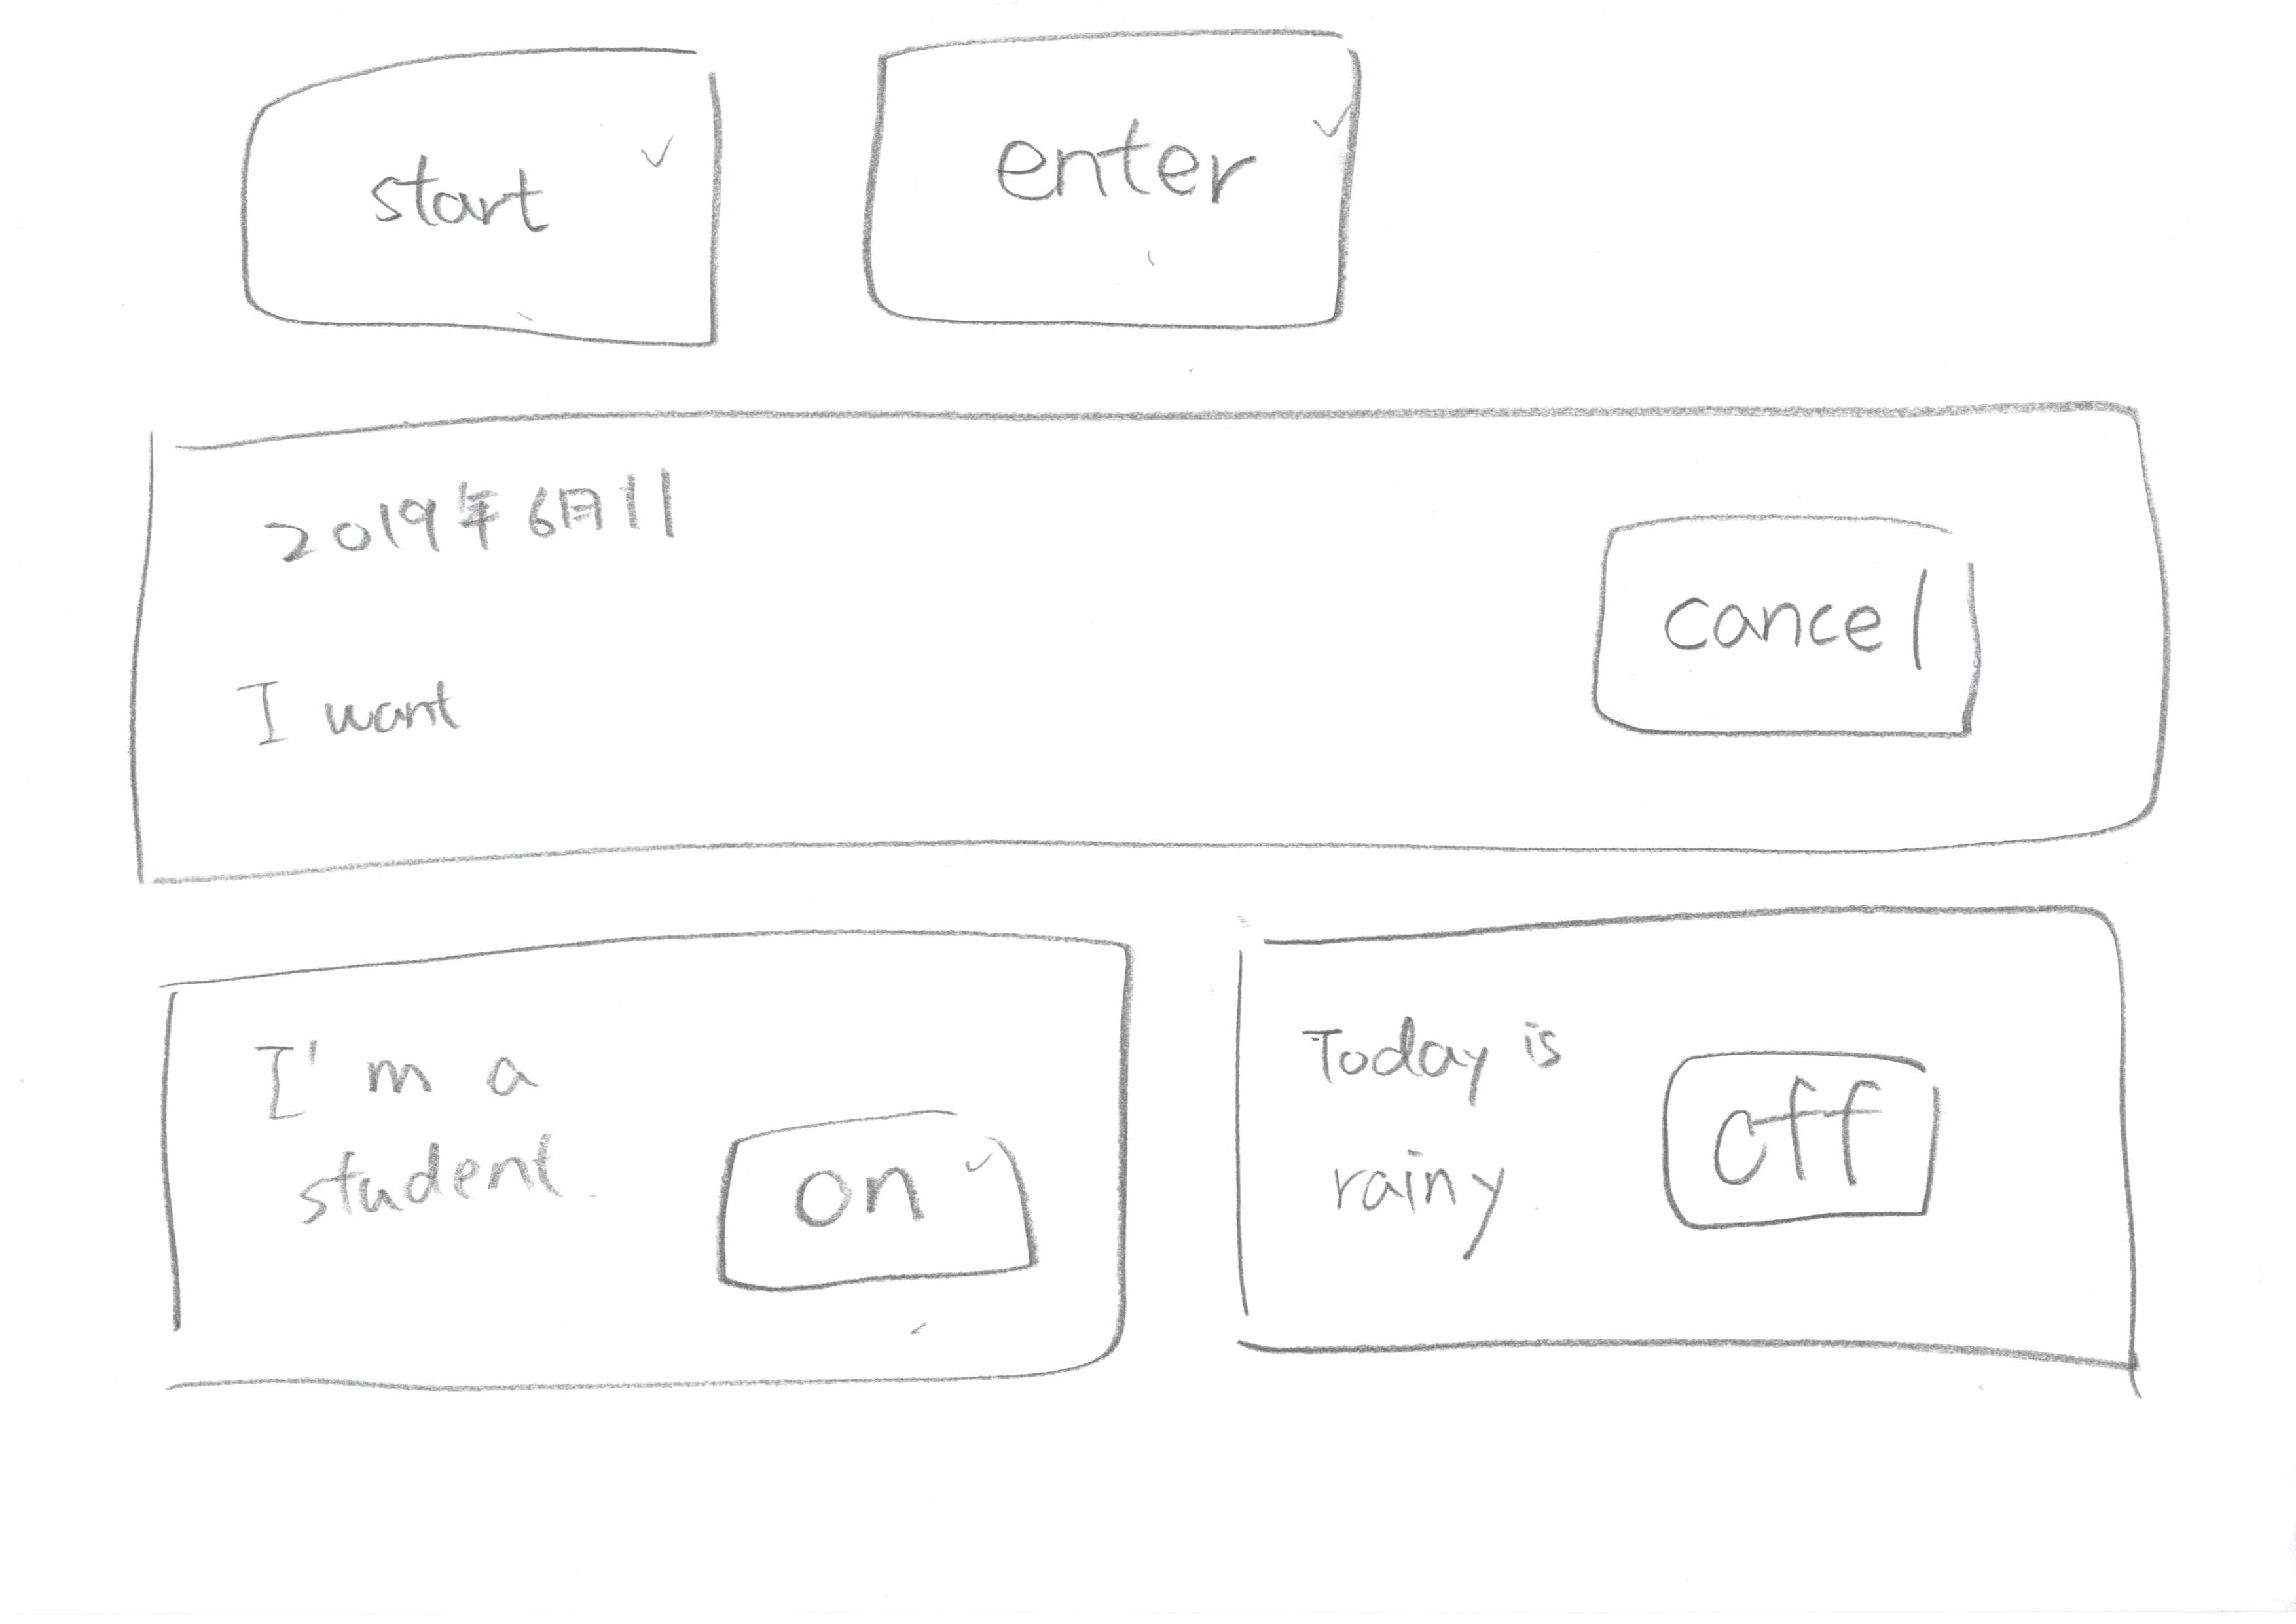btn-active: (833, 14, 1413, 369), (691, 1072, 1069, 1315), (1633, 1023, 1969, 1243)
cancel: (1556, 483, 2013, 766)
double: (70, 895, 1160, 1420), (1206, 893, 2203, 1436)
row: (25, 881, 2296, 1461), (25, 380, 2296, 888), (25, 0, 2296, 374)
single: (74, 359, 2208, 889)
small-title: (211, 480, 726, 576)
start: (202, 23, 770, 366)
text: (220, 1018, 605, 1244), (1299, 1012, 1605, 1265), (211, 652, 533, 735)
